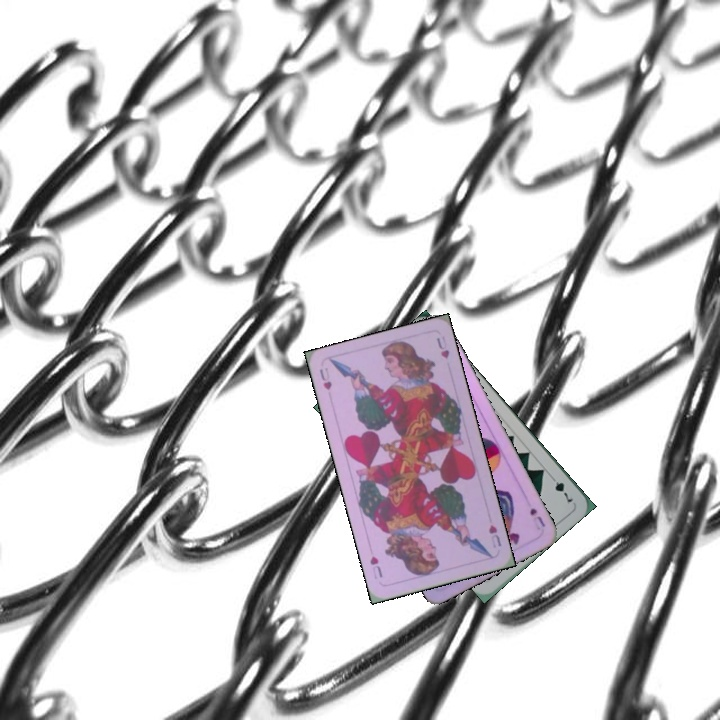G7: (546, 471, 576, 505)
HU: (484, 521, 504, 551), (315, 363, 334, 393)
SU: (526, 504, 548, 533)
